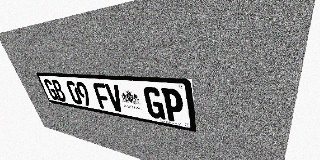0: (65, 80, 83, 105)
9: (74, 81, 93, 107)
B: (50, 79, 67, 102)
F: (92, 83, 112, 110)
G: (143, 86, 166, 120), (43, 79, 60, 101)
P: (161, 88, 185, 123)
V: (104, 83, 125, 113)
